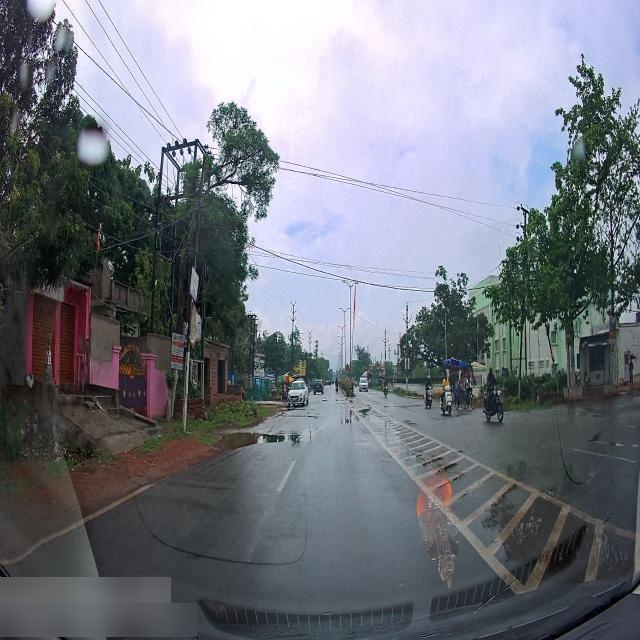pothole: (226, 428, 294, 447), (357, 407, 381, 425)
